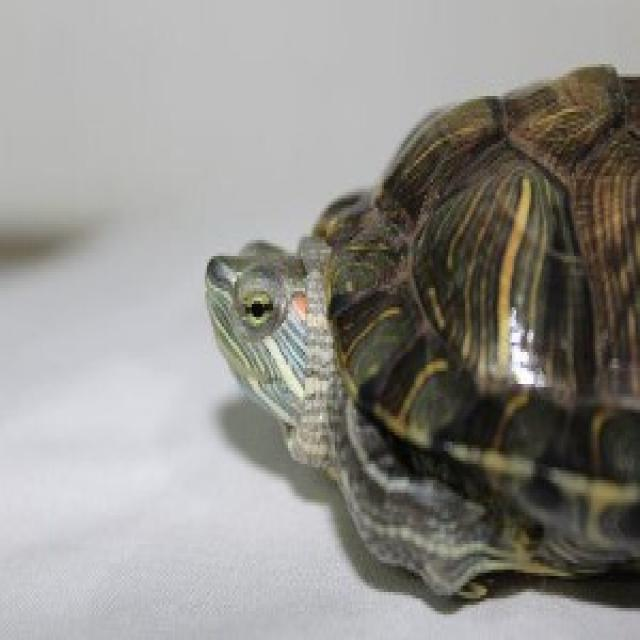Sea turtle: (185, 59, 640, 568)
